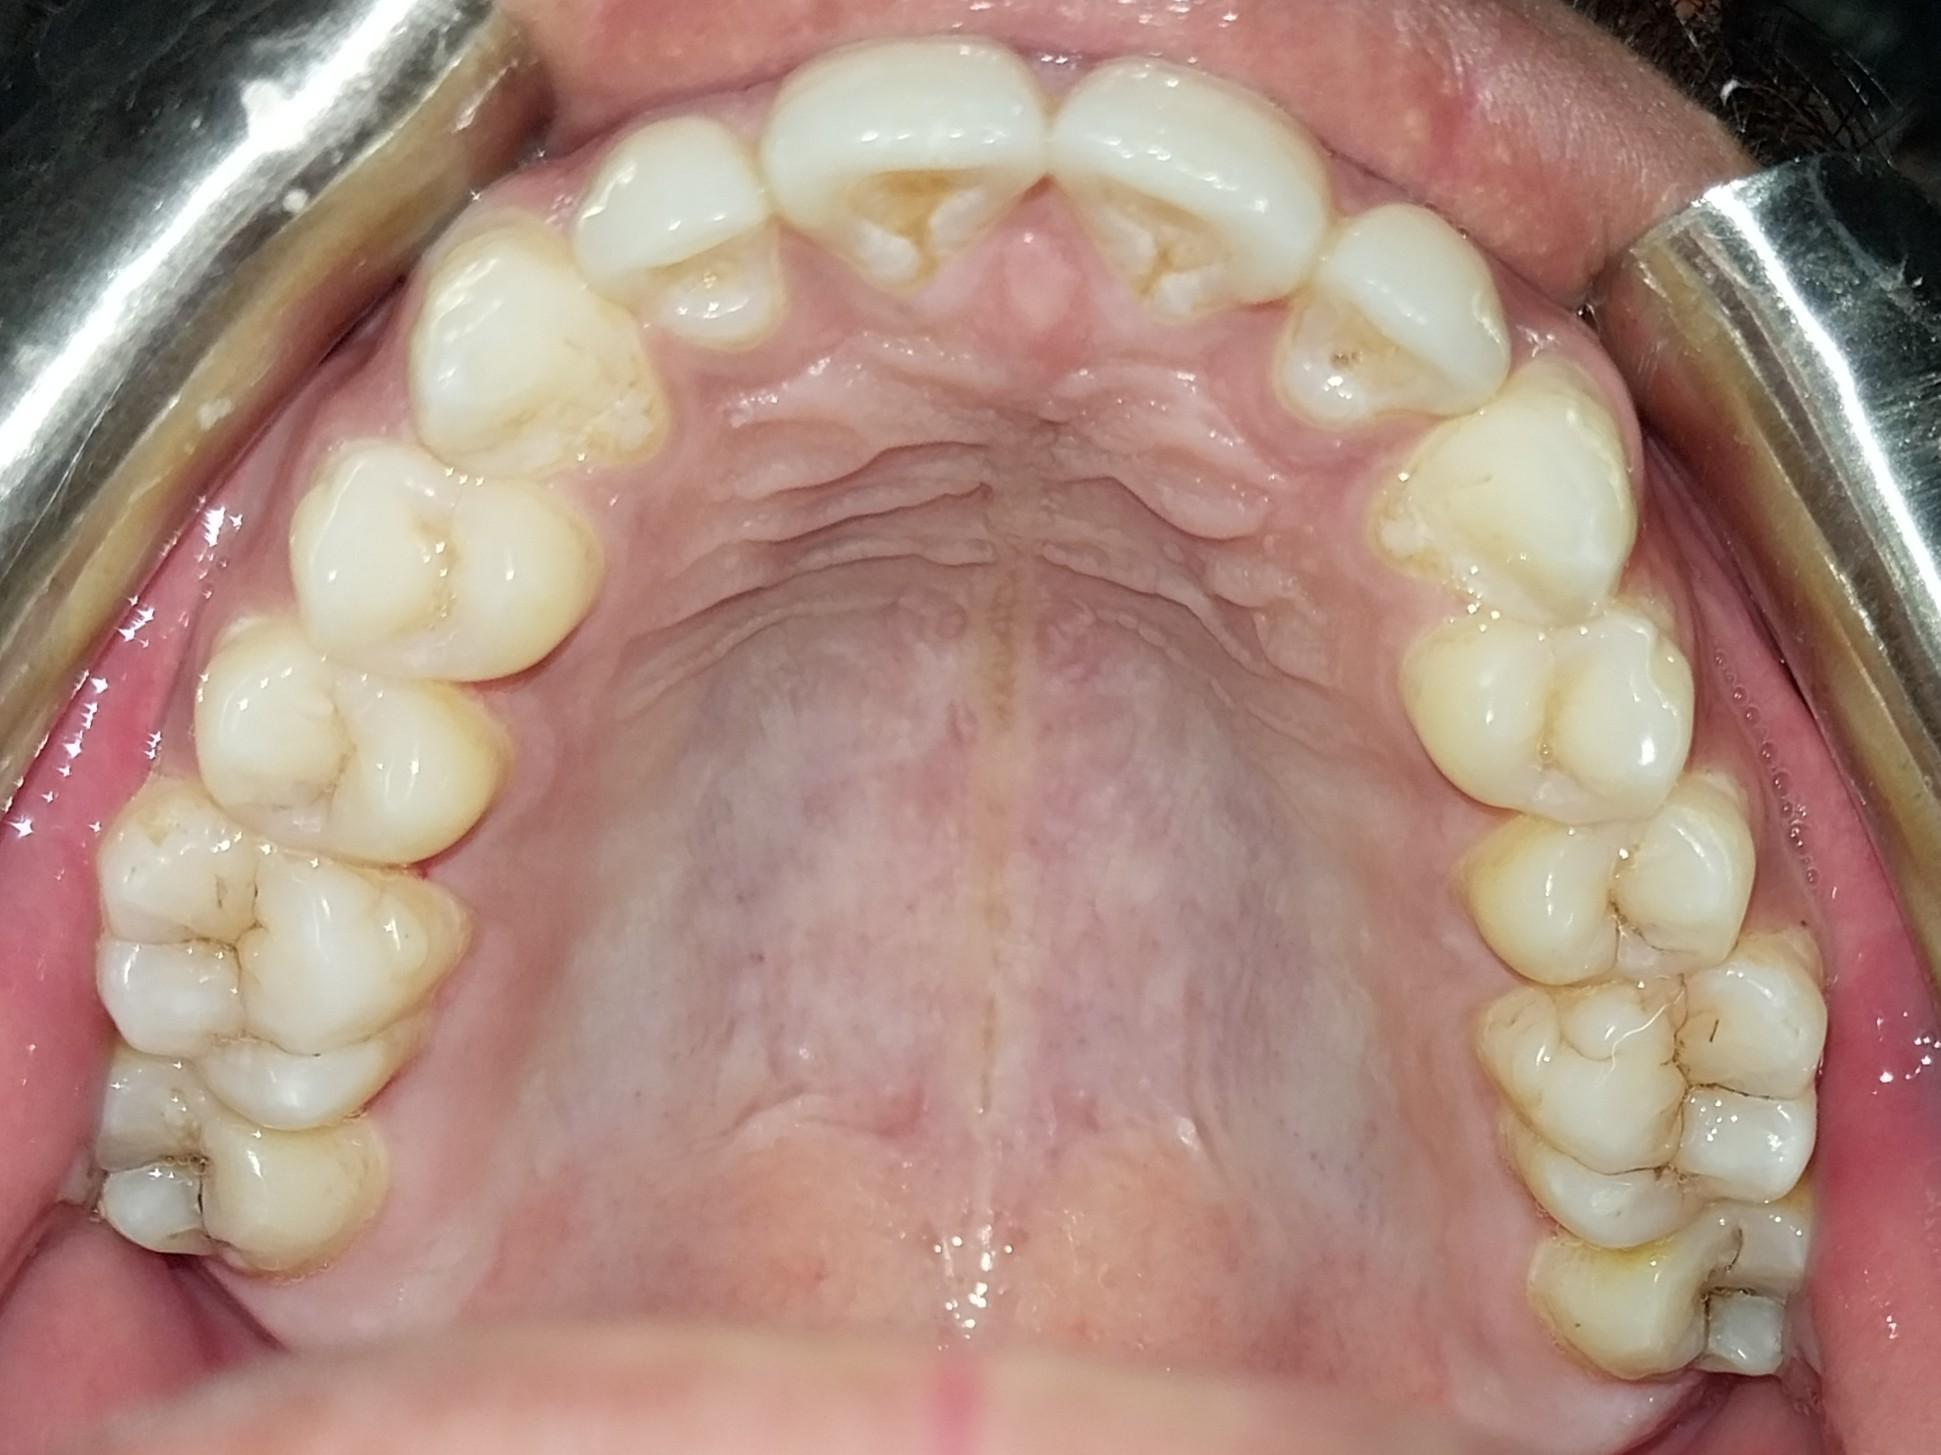D: (80, 1057, 362, 1284), (1528, 1205, 1810, 1385)
